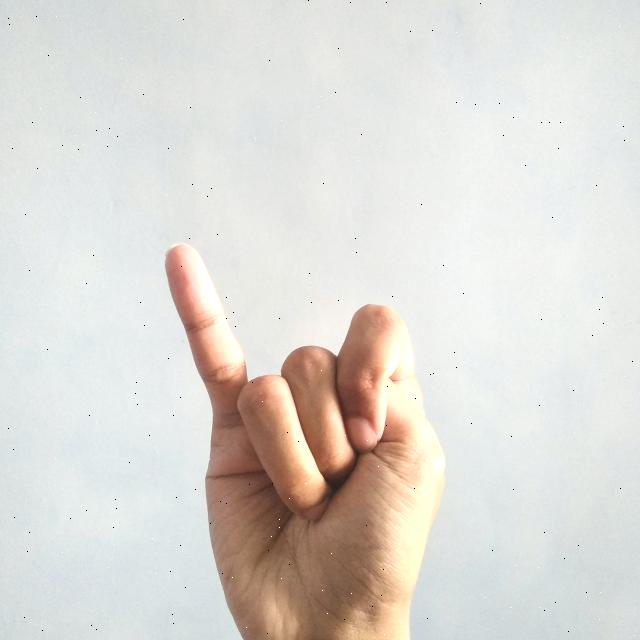I: (153, 240, 452, 640)
